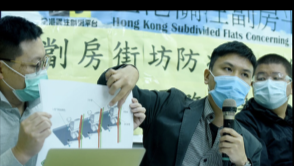with_mask: (3, 51, 51, 104), (208, 59, 255, 112), (251, 67, 293, 111)
